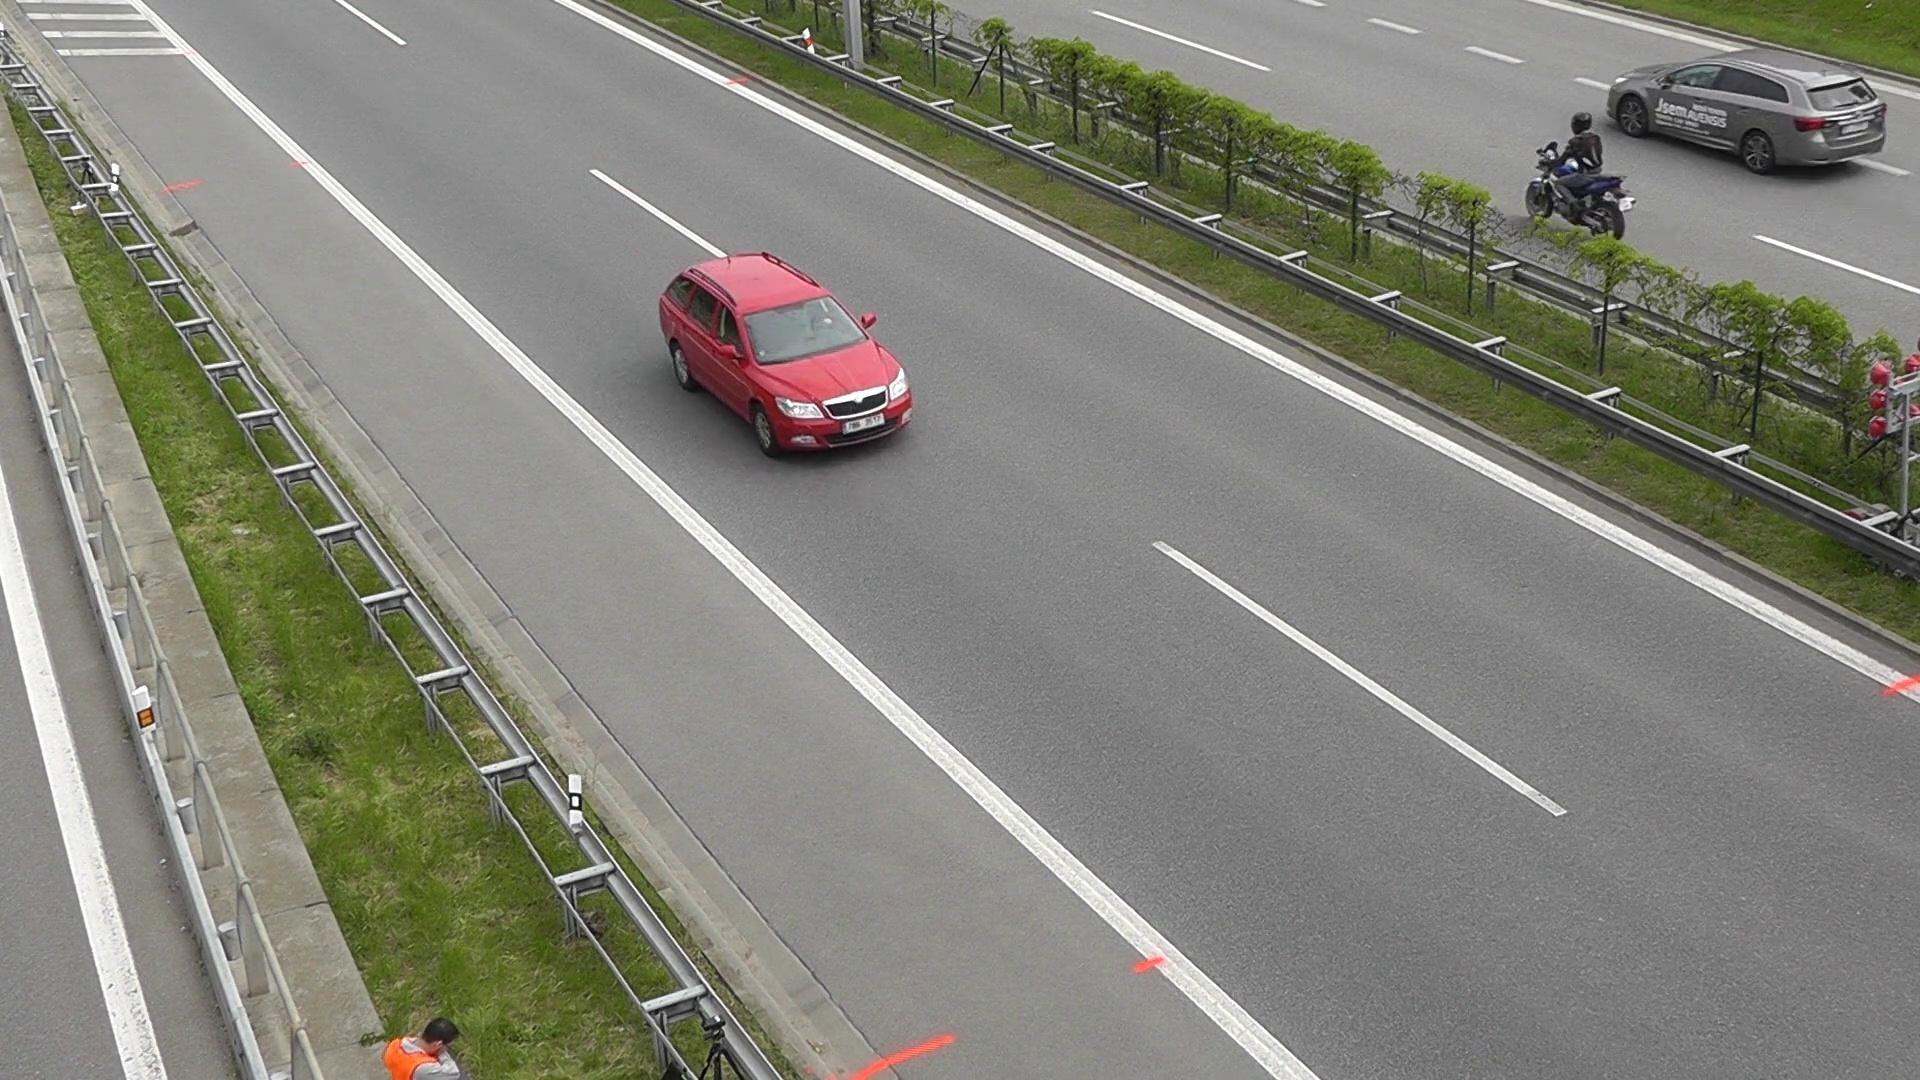Car: (618, 244, 955, 472), (1621, 54, 1894, 169)
Motorcycle: (1532, 108, 1633, 249)
